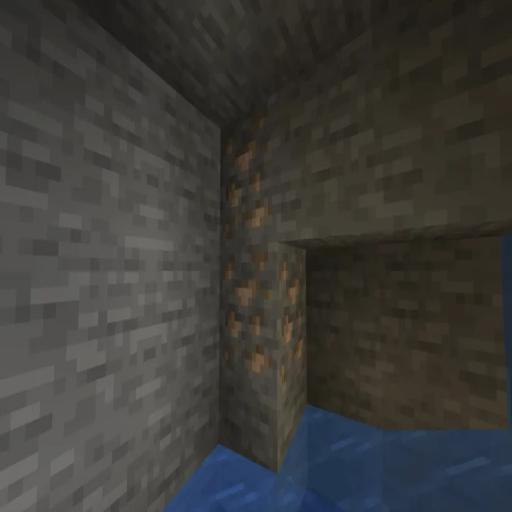iron ore: (219, 112, 309, 389)
